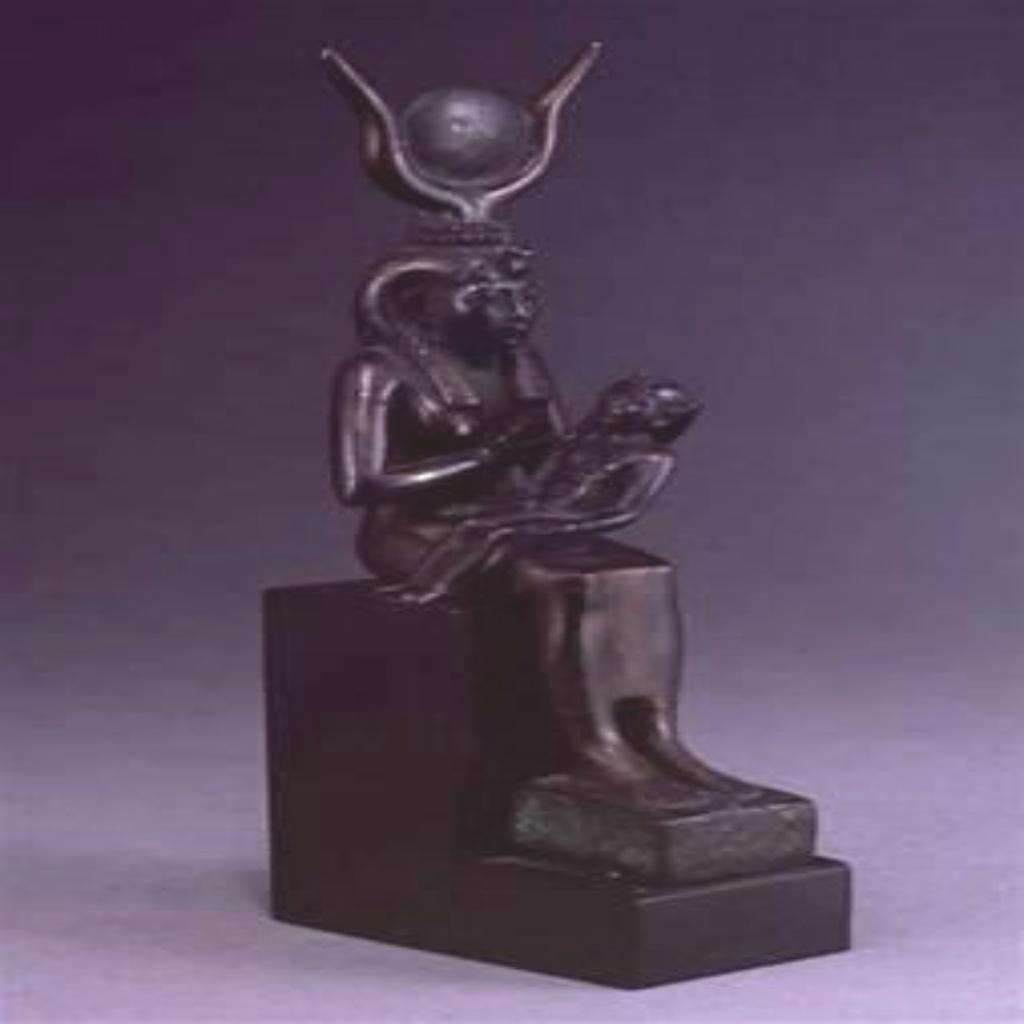Isis with her child: (250, 32, 863, 987)
